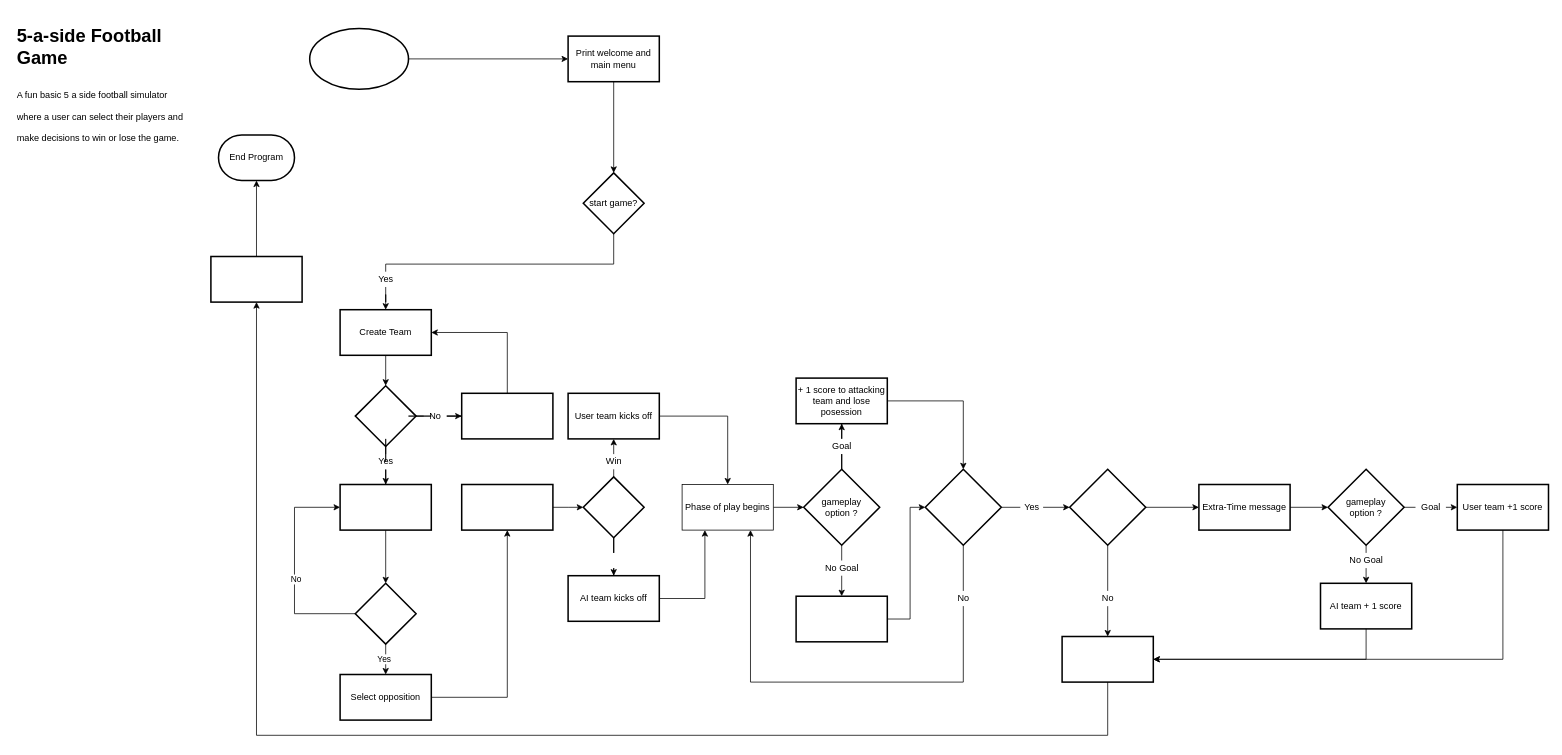
Image size: 1562x755. Some labels were removed from this diagram. Each missing label, with the centre of its shape:
are team scores = ?: pixel 1107 507
Ask for user input team name: pixel 507 415
Attacking team lose posession: pixel 841 618
Coin Toss: pixel 507 506
Declare winner of match: pixel 1107 658
Display thank you for playing message: pixel 256 278
game.rb: pixel 359 58
is num players = 5?: pixel 385 613
is phase of play > 5?: pixel 963 507
Lose: pixel 613 560
name length > 0?: pixel 385 416
result?: pixel 613 507
Select players: pixel 385 506
